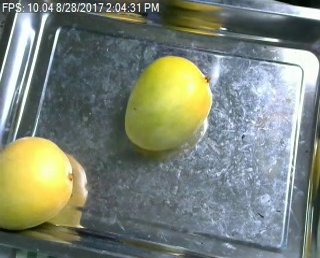Mango: (122, 53, 215, 150), (0, 134, 73, 234)
